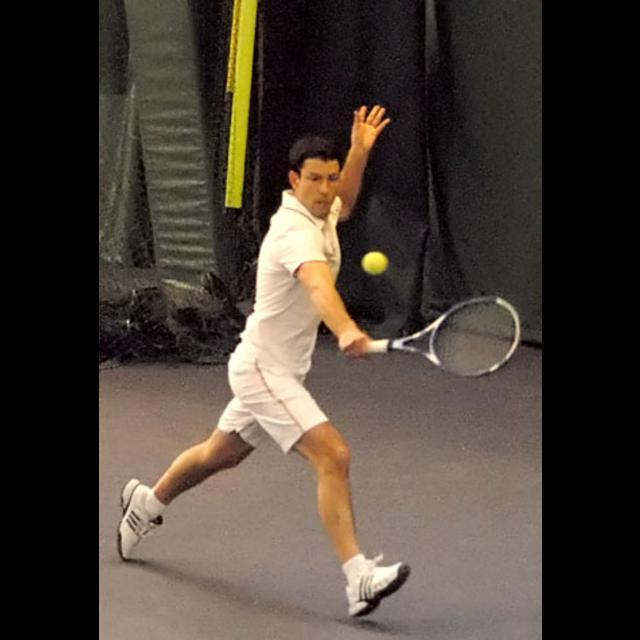tennis-ball: (359, 251, 389, 277)
